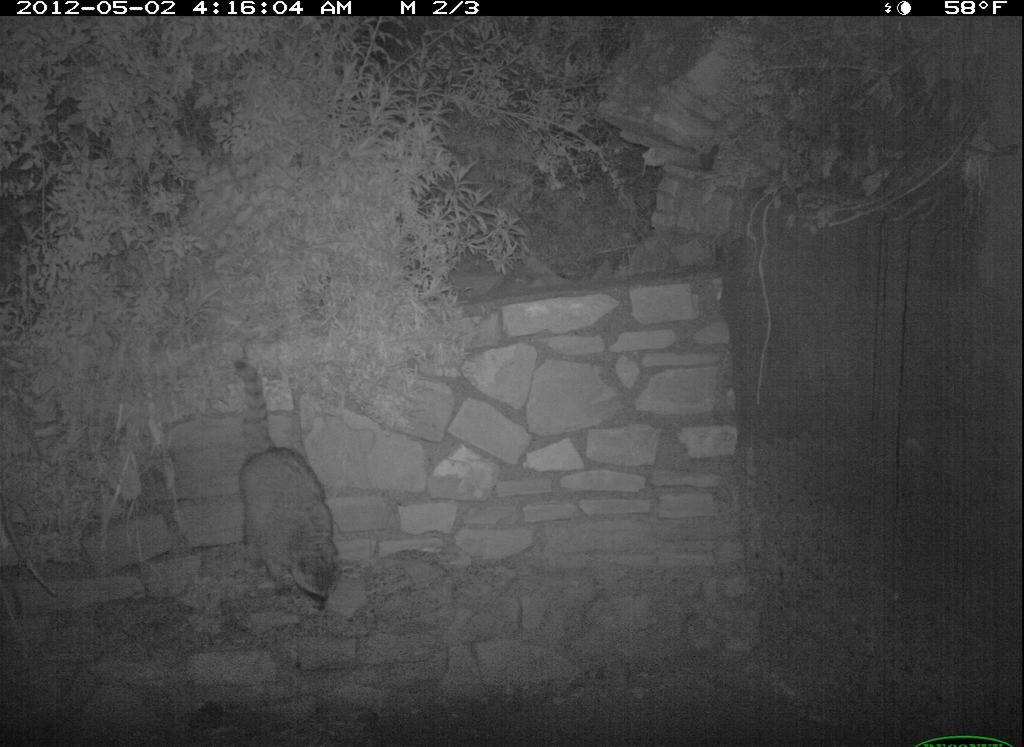raccoon: (226, 353, 347, 619)
